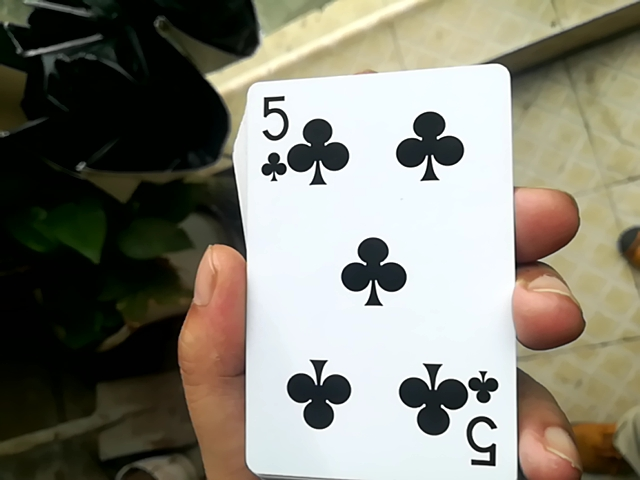mh 5: (221, 62, 519, 479)
